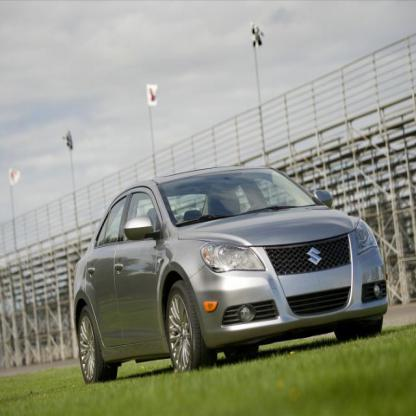Vehicle: (72, 162, 390, 388)
